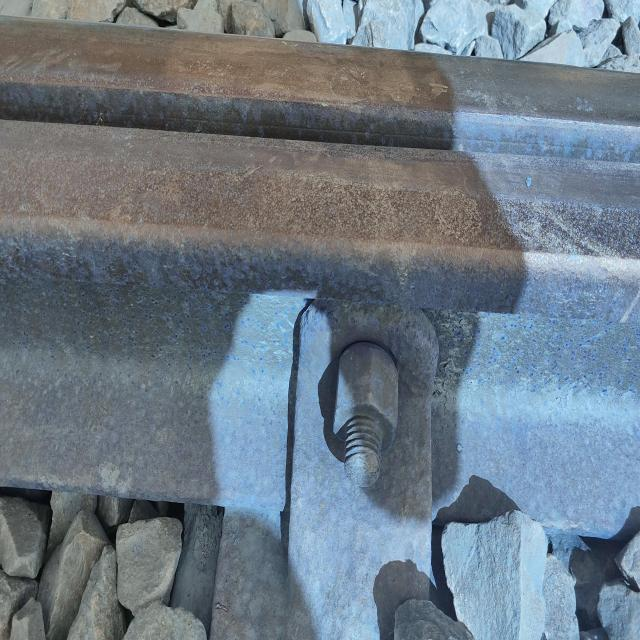Good Joint: (208, 178, 520, 526)
